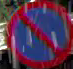No Stopping: (5, 1, 72, 68)
